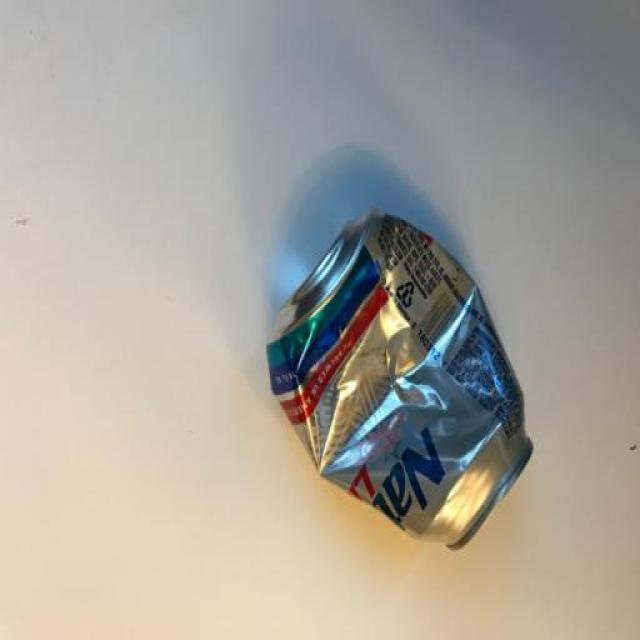metel: (199, 177, 552, 582)
